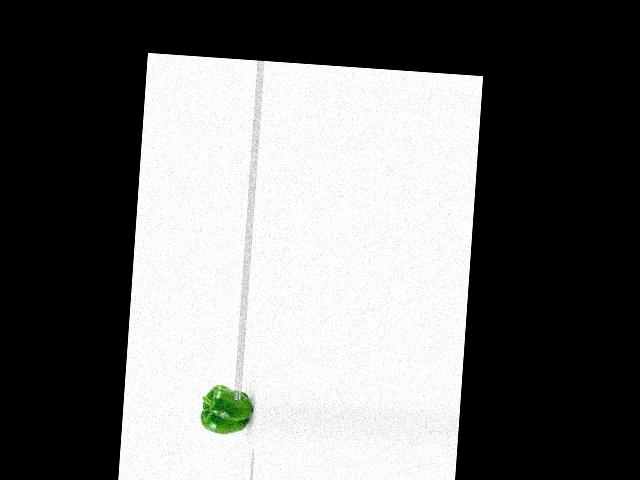bell_pepper: (196, 384, 256, 438)
